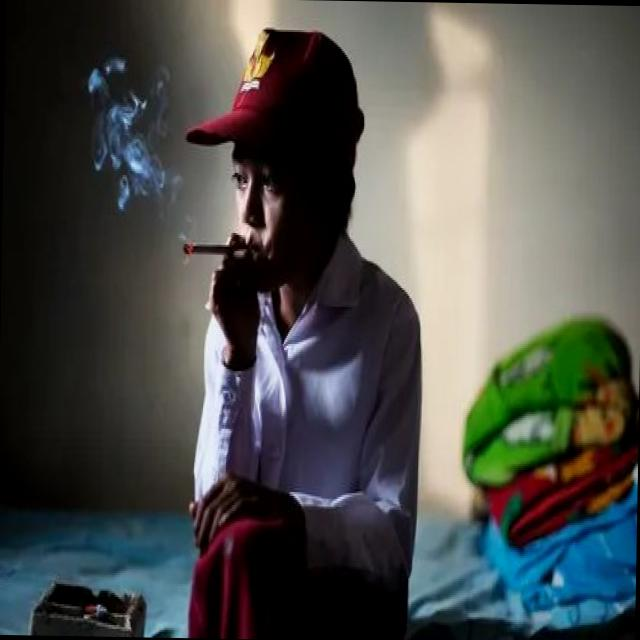smoke: (177, 240, 234, 260)
